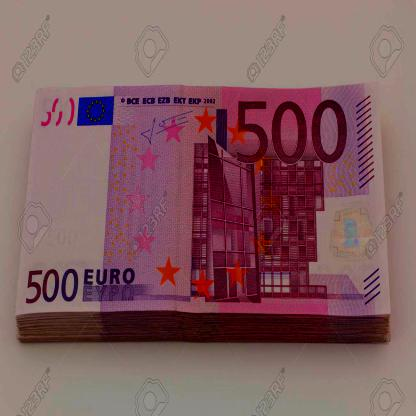euro_banknote: (15, 85, 390, 318)
